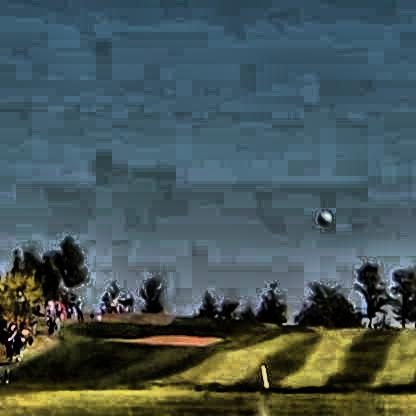golfball: (314, 207, 329, 225)
